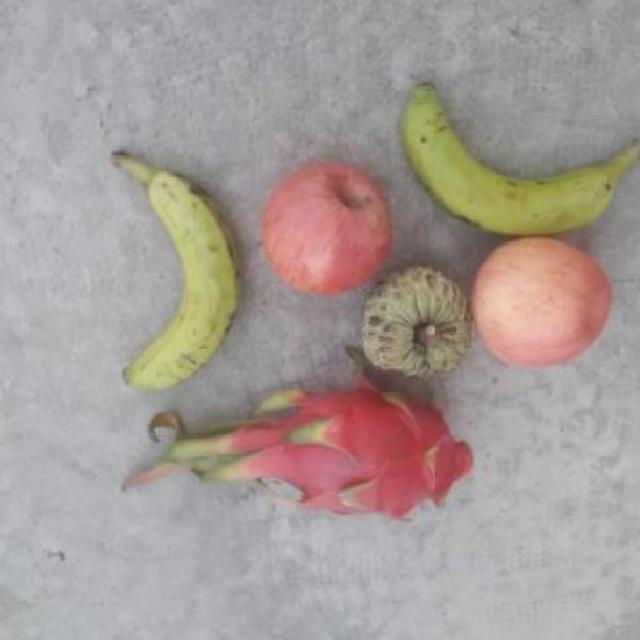apple: (472, 240, 616, 370), (271, 166, 393, 296)
banana: (84, 150, 248, 394), (397, 89, 627, 237)
dragon fruit: (253, 386, 477, 520)
sugar apple: (358, 258, 477, 384)
